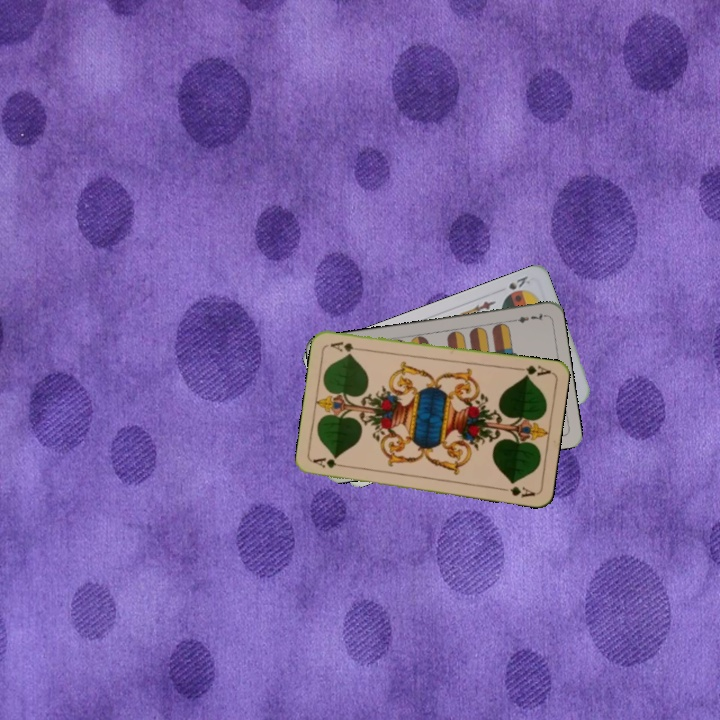E7: (507, 309, 548, 326)
GA: (513, 361, 553, 380), (310, 454, 350, 471)
SK: (505, 272, 533, 292)
